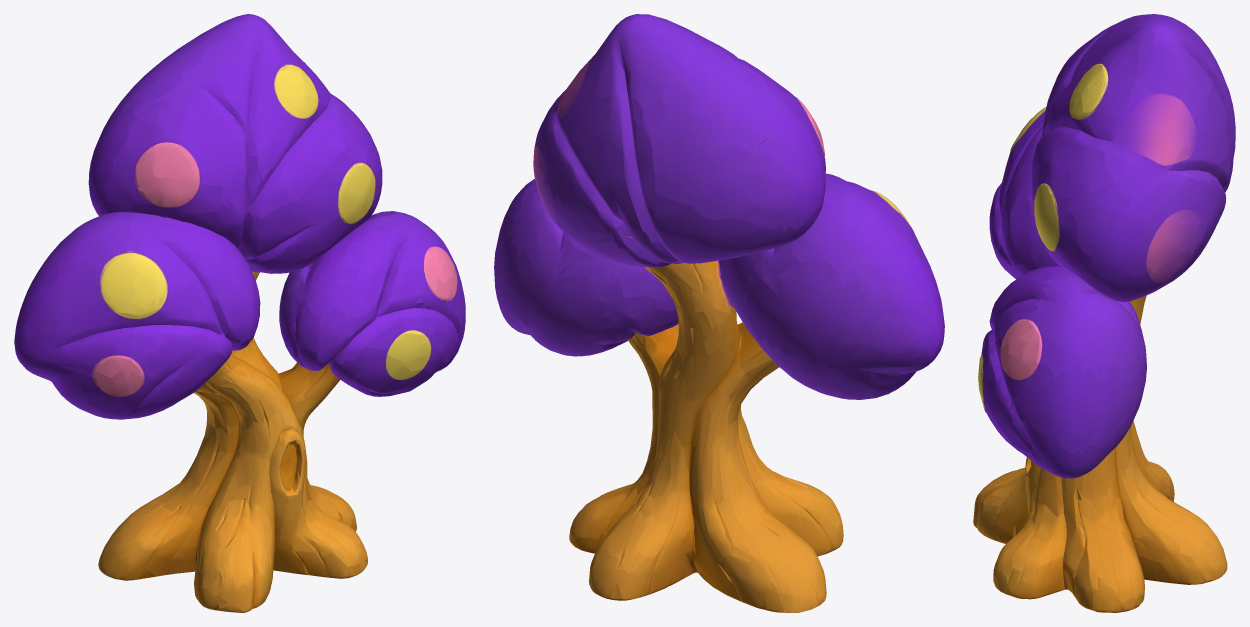
3 views of the same model, side by side, from view 1: azimuth 30°, elevation 25°; view 2: azimuth 150°, elevation 25°; view 3: azimuth 270°, elevation 25° (orthographic). The views are drawn at different scales.
Parts seen in each view (by area): view 1: island-tree-v1-1.001; view 2: island-tree-v1-1.001; view 3: island-tree-v1-1.001.
Boxes of the visible parts, x1=… form: island-tree-v1-1.001: x1=14, y1=14, x2=465, y2=612; island-tree-v1-1.001: x1=494, y1=14, x2=944, y2=612; island-tree-v1-1.001: x1=973, y1=14, x2=1235, y2=612.
Bounding box in the file's own units: 3.46 × 4 × 1.74.
1 material, 1 textured.
